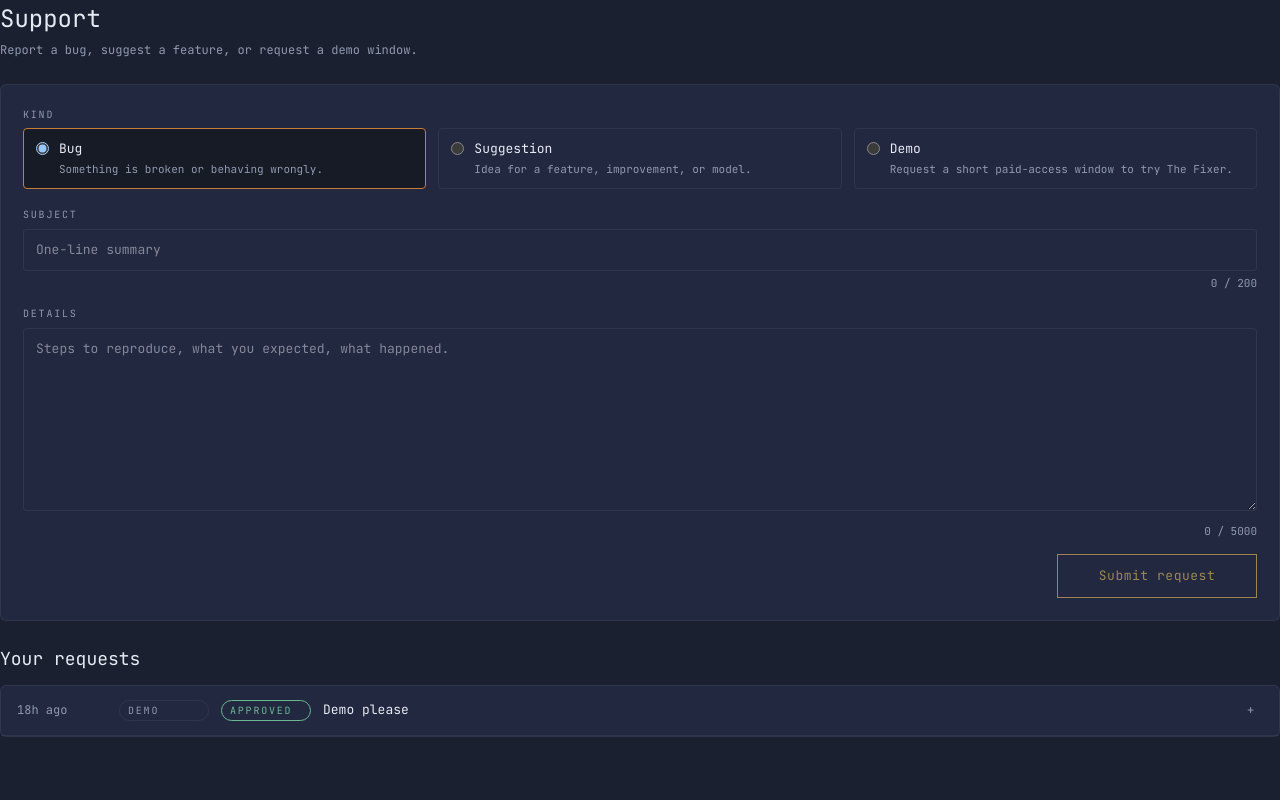
Test: Support page › expands a row on click and shows the full body and decision notes
This screenshot has width=1280, height=800.
Click the button "18h ago Demo Approved Demo please +". click: (42,710)
box: [1,686,1279,735]
(page scrolled)
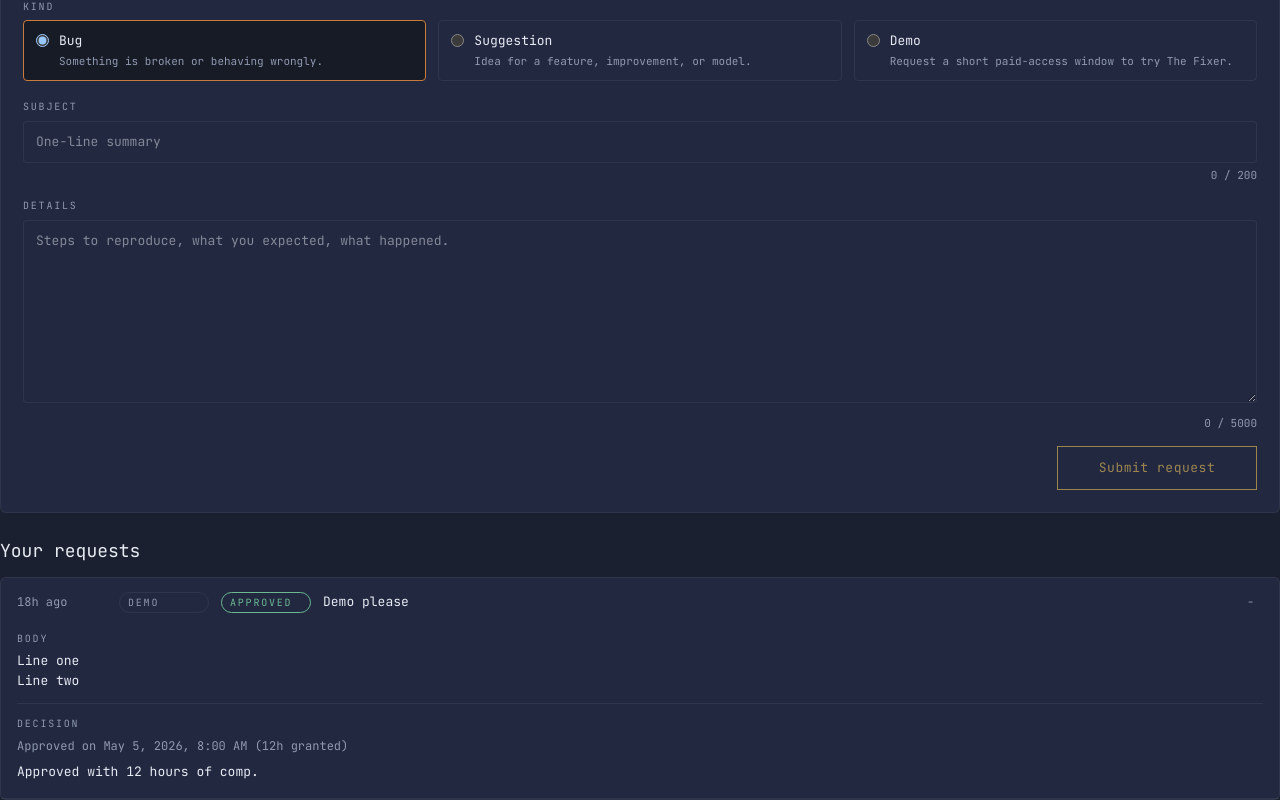
Now the button "18h ago Demo Approved Demo please -" is expanded, box [1,578,1279,627]
Now the text "Line one Line two" is shown, box [17,652,79,689]
Now the text "Approved with 12 hours of comp." is shown, box [17,763,259,780]
